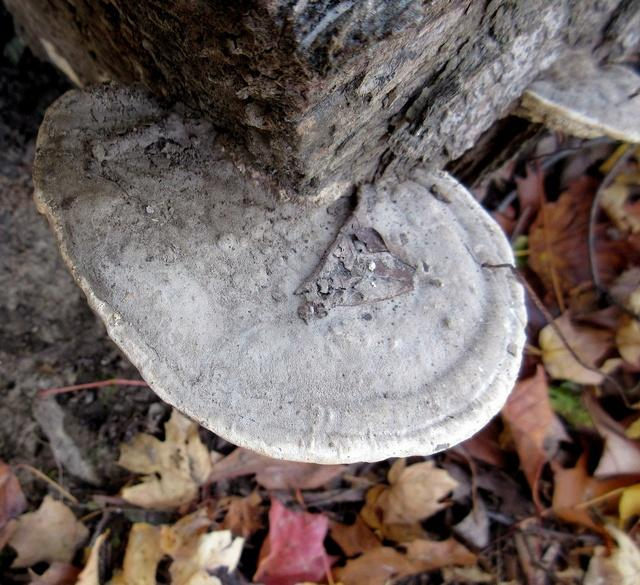Non-edible Mushroom: (30, 80, 530, 465)
